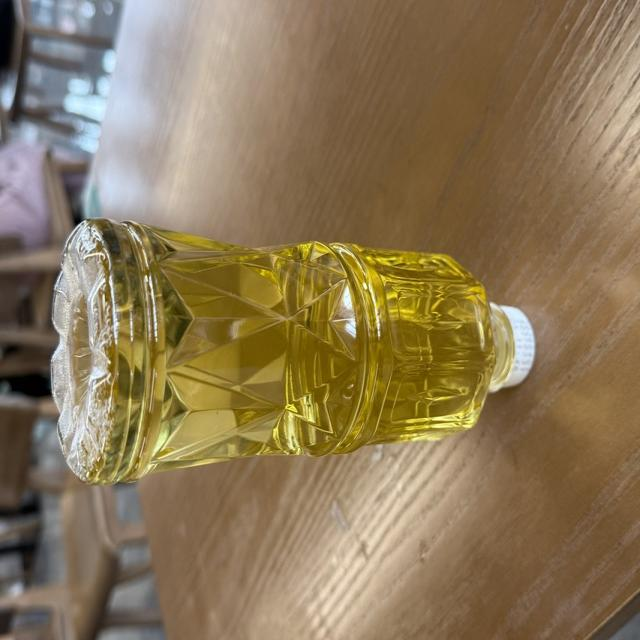high: (51, 219, 534, 483)
